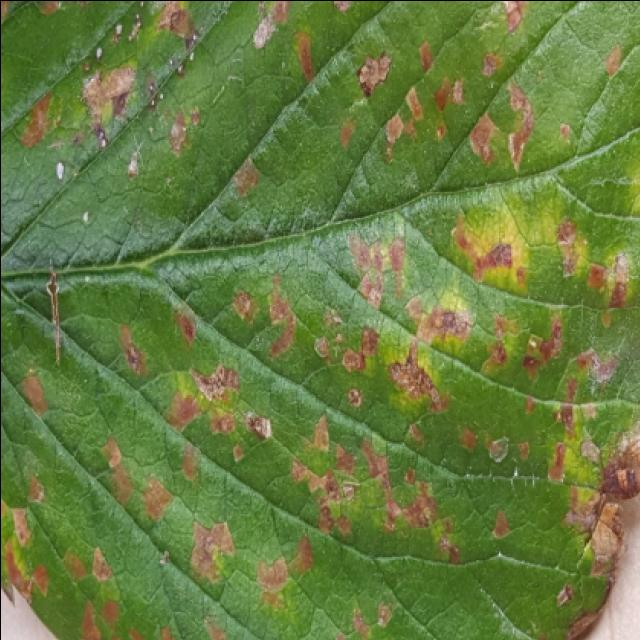Angular Leafspot: (0, 2, 638, 640)
